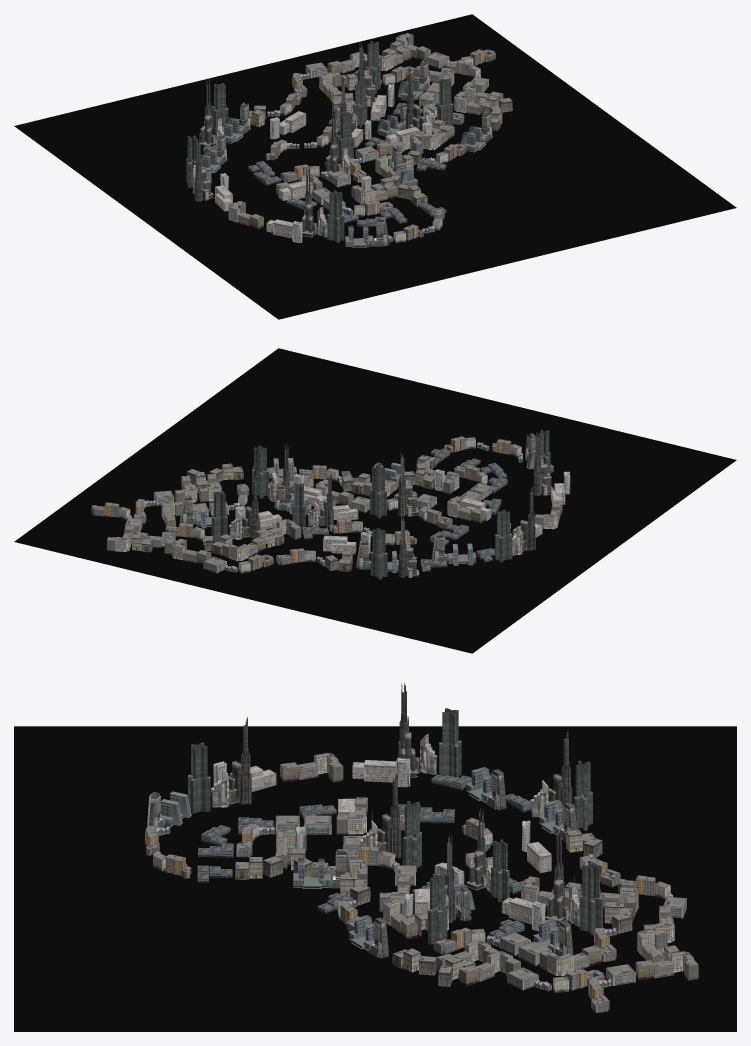
File: city.fbx
3 views of the same model, one above another, from view 1: azimuth 30°, elevation 25°; view 2: azimuth 150°, elevation 25°; view 3: azimuth 270°, elevation 25° (orthographic). The views are drawn at different scales.
Visible parts, largest first — view 1: Plane, The_City:mesh01, The_City:mesh01.001, The_City:bldgs2.002, The_City:bldgs2.003, The_City:bldgs2, The_City:bldgs2.001, The_City:bldgs2.004; view 2: Plane, The_City:mesh01.001, The_City:mesh01, The_City:bldgs2.002, The_City:bldgs2.003, The_City:bldgs2, The_City:bldgs2.004, The_City:bldgs2.001; view 3: Plane, The_City:mesh01.001, The_City:bldgs2.002, The_City:mesh01, The_City:bldgs2.004, The_City:bldgs2, The_City:bldgs2.003, The_City:bldgs2.001.
Part boxes in pixels (<box>): Plane: <box>14,14,736,319</box>; The_City:mesh01: <box>228,119,466,243</box>; The_City:mesh01.001: <box>249,33,512,131</box>; The_City:bldgs2.002: <box>266,41,429,247</box>; The_City:bldgs2.003: <box>198,78,339,185</box>; The_City:bldgs2: <box>278,107,446,223</box>; The_City:bldgs2.001: <box>385,69,492,171</box>; The_City:bldgs2.004: <box>186,133,232,211</box>; Plane: <box>14,348,736,653</box>; The_City:mesh01.001: <box>91,463,352,573</box>; The_City:mesh01: <box>278,436,562,545</box>; The_City:bldgs2.002: <box>179,430,570,542</box>; The_City:bldgs2.003: <box>302,515,468,579</box>; The_City:bldgs2: <box>370,448,507,521</box>; The_City:bldgs2.004: <box>431,486,542,565</box>; The_City:bldgs2.001: <box>252,444,357,506</box>; Plane: <box>14,726,736,1031</box>; The_City:mesh01.001: <box>392,829,698,1012</box>; The_City:bldgs2.002: <box>147,717,602,956</box>; The_City:mesh01: <box>145,753,492,939</box>; The_City:bldgs2.004: <box>352,682,506,810</box>; The_City:bldgs2: <box>197,771,421,888</box>; The_City:bldgs2.003: <box>398,730,592,893</box>; The_City:bldgs2.001: <box>317,834,455,958</box>.
Bounding box in the file's own units: 46662 × 6277 × 46662.
